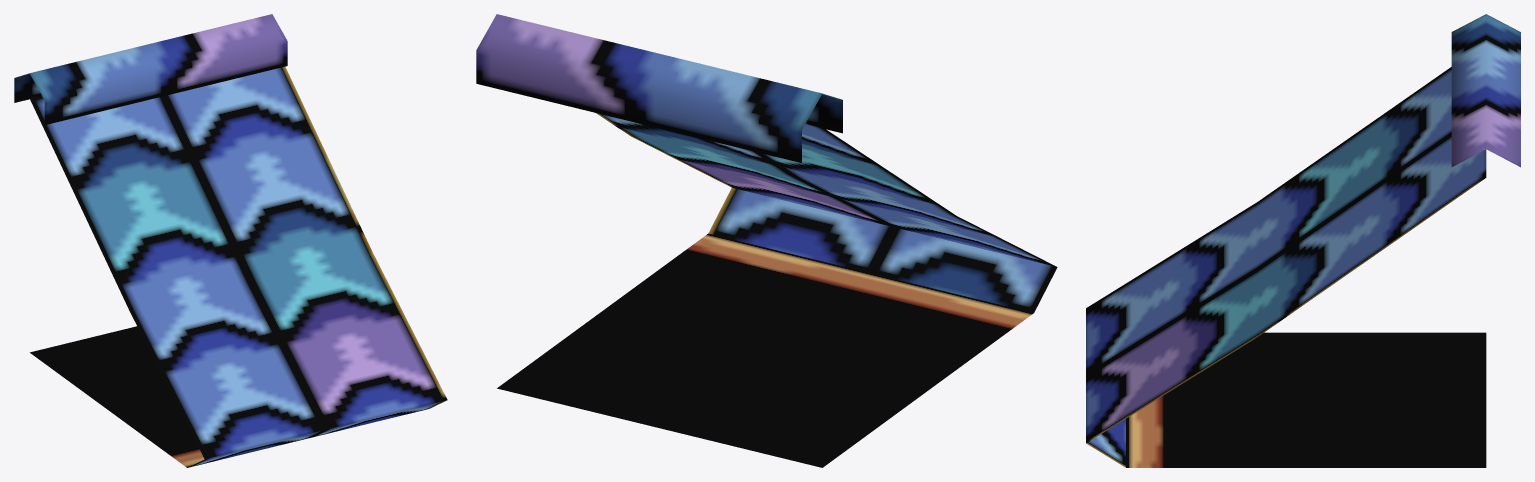
Rendered from arch_roof_straightHalf_teal.FBX.
3 renders of one model, left to right at view 1: azimuth 30°, elevation 25°; view 2: azimuth 150°, elevation 25°; view 3: azimuth 270°, elevation 25°, orthographic. The views are drawn at different scales.
Parts seen in each view (by area): view 1: arch_roof_straightHalf_teal; view 2: arch_roof_straightHalf_teal; view 3: arch_roof_straightHalf_teal.
Part boxes in pixels (box(x1,y1,x2,y2)): arch_roof_straightHalf_teal: box(14, 14, 447, 467); arch_roof_straightHalf_teal: box(476, 14, 1057, 467); arch_roof_straightHalf_teal: box(1086, 14, 1520, 467).
Bounding box in the file's own units: 2 × 2.2 × 2.72.
Materials: 1 (1 with a texture image).
